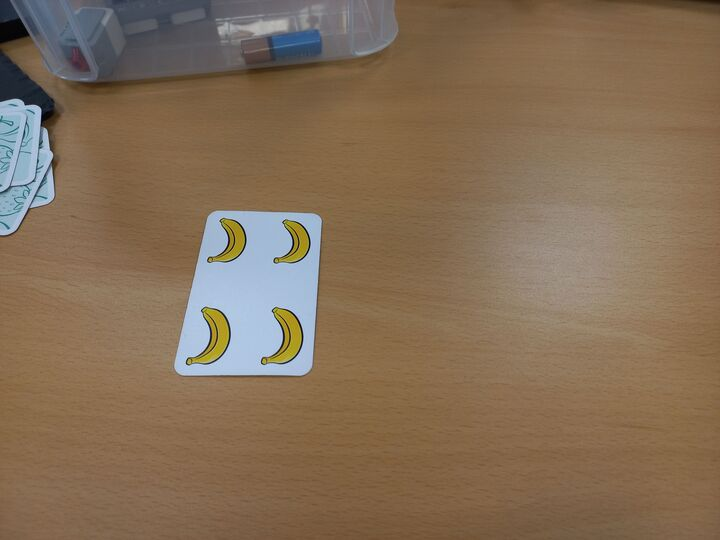banana4: (170, 209, 323, 379)
